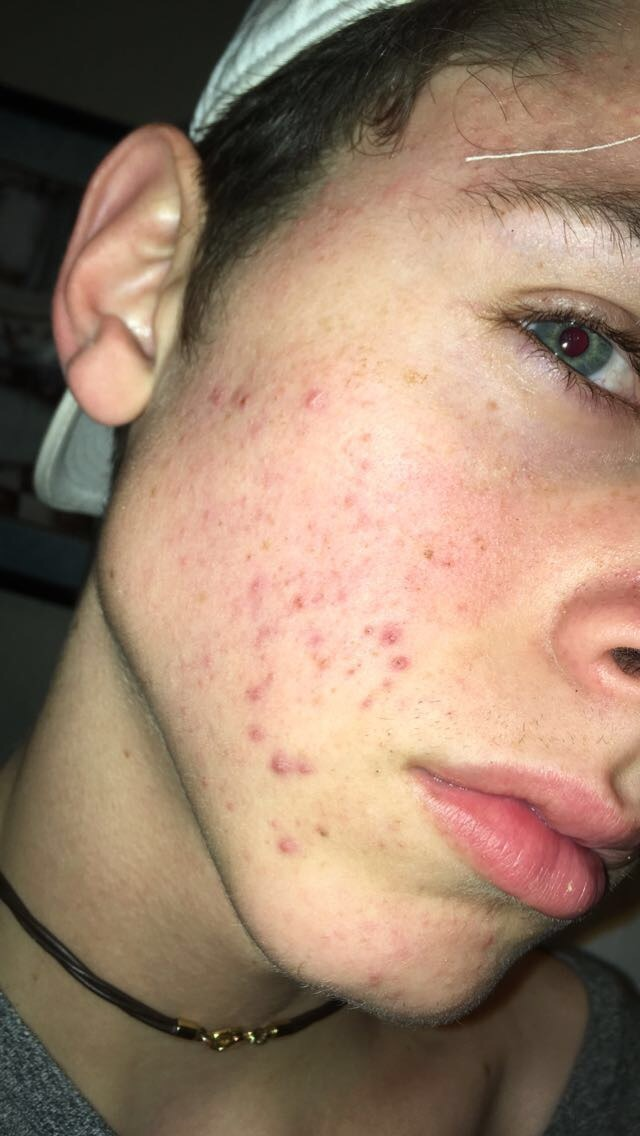Acne: (156, 193, 452, 885)
